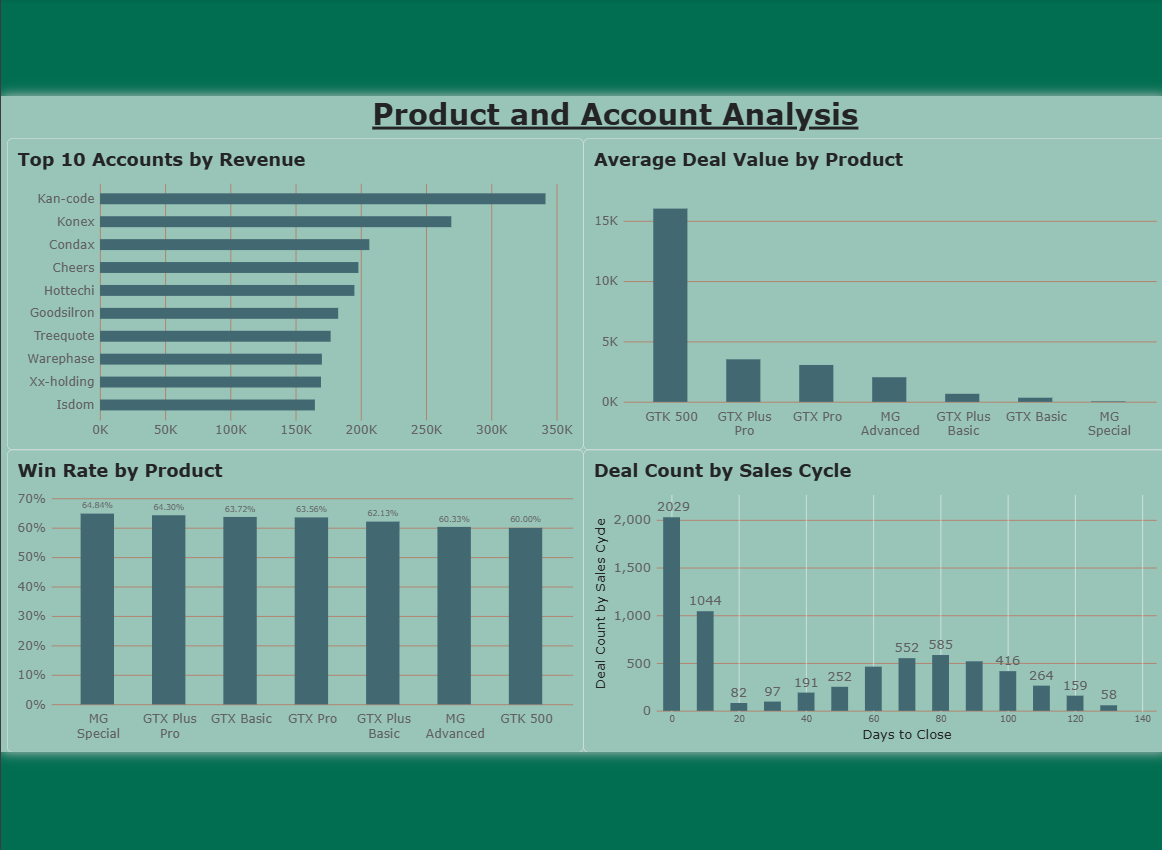

The dashboard page shown, as its layout file describes it:
{"tool":"powerbi","page":{"name":"Product and Account Analysis","canvas":[1920,1080],"ordinal":2},"visuals":[{"type":"clusteredBarChart","title":"Top 10 Accounts by Revenue","fields":{"Category":["sales_pipeline_cleaned.account"],"Y":["Sum(sales_pipeline_cleaned.close_value)"]},"box":[10.3,0,948.9,539.3],"z":0},{"type":"clusteredColumnChart","title":"Average Deal Value by Product","fields":{"Category":["sales_pipeline_cleaned.product"],"Y":["Avg(sales_pipeline_cleaned.close_value)"]},"box":[959.2,0,961.2,539.3],"z":1000},{"type":"clusteredColumnChart","title":"Deal Count by Sales Cycle","fields":{"Category":["sales_pipeline_cleaned.Days to Close (bins)"],"Y":["CountNonNull(sales_pipeline_cleaned.opportunity_id)"]},"box":[959.2,539.3,961.2,541.3],"z":2000},{"type":"clusteredColumnChart","title":"Win Rate by Product","fields":{"Category":["sales_pipeline_cleaned.product"],"Y":["accounts_cleaned.Win Rate"]},"box":[10.3,539.3,948.9,541.3],"z":3000}]}

Visuals, with their boxes on the page's 1920x1080 design canvas (x1, y1, x2, y2). These are canvas units, not pixel positions in the 1162x850 screenshot, which may show the page scaled, cropped or inside an application window:
"Top 10 Accounts by Revenue" clusteredBarChart: left=10, top=0, right=959, bottom=539
"Average Deal Value by Product" clusteredColumnChart: left=959, top=0, right=1920, bottom=539
"Deal Count by Sales Cycle" clusteredColumnChart: left=959, top=539, right=1920, bottom=1081
"Win Rate by Product" clusteredColumnChart: left=10, top=539, right=959, bottom=1081
